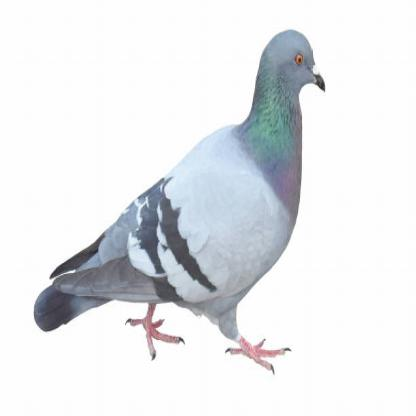Flying Rat: (39, 24, 334, 376)
